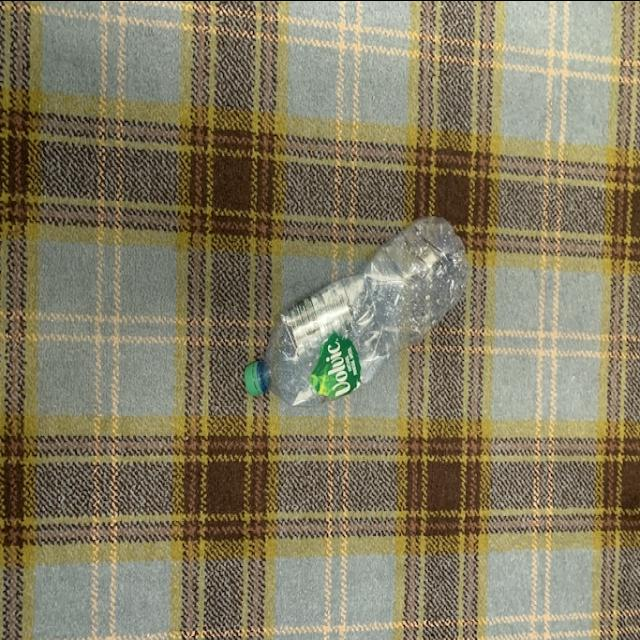PET: (239, 210, 472, 409)
